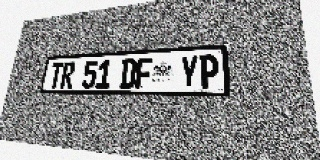1: (95, 60, 112, 88)
5: (82, 60, 98, 88)
D: (119, 58, 137, 88)
F: (135, 57, 153, 88)
P: (199, 54, 219, 88)
R: (60, 62, 76, 88)
T: (48, 62, 64, 88)
Y: (179, 55, 198, 88)
